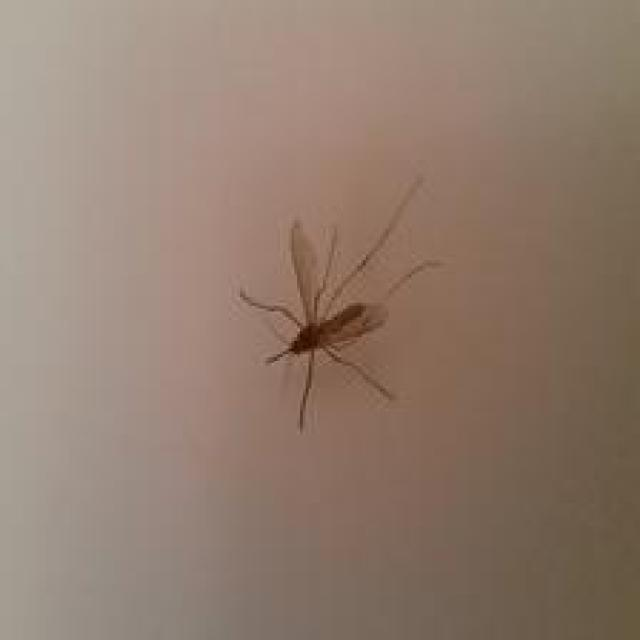Culex: (237, 173, 443, 433)
